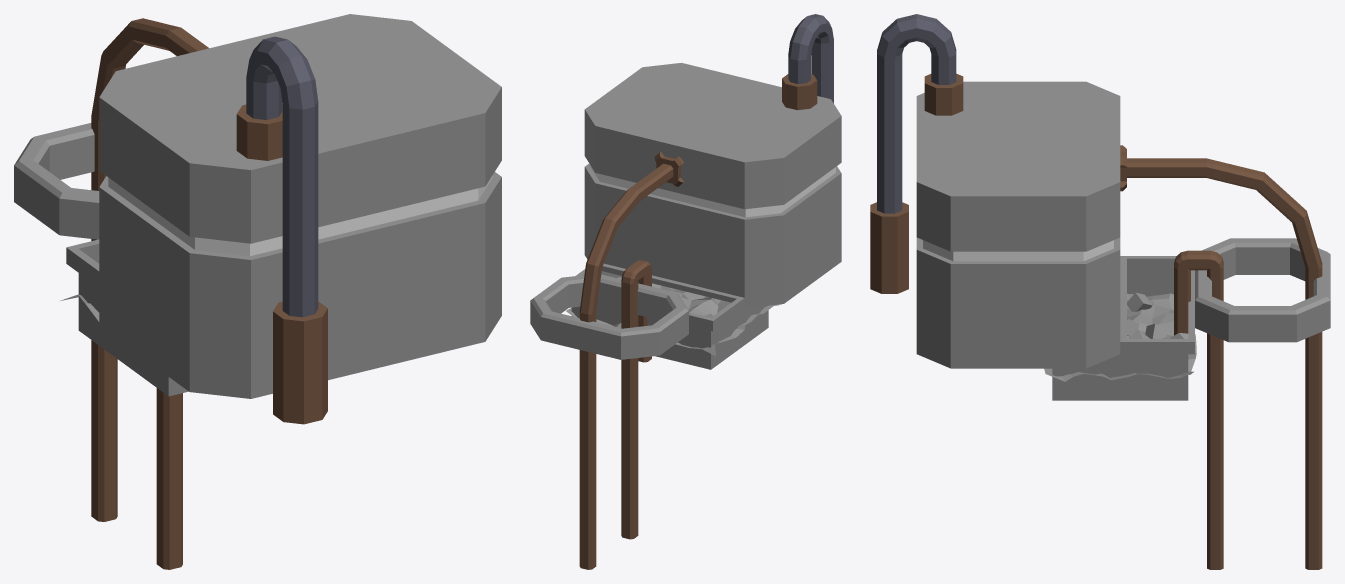
Rendered from madenlv1.fbx.
3 renders of one model, left to right at view 1: azimuth 30°, elevation 25°; view 2: azimuth 150°, elevation 25°; view 3: azimuth 270°, elevation 25°, orthographic. The views are drawn at different scales.
Parts seen in each view (by area): view 1: Cube.010; view 2: Cube.010; view 3: Cube.010.
Boxes of the visible parts, x1,y1,x2,y2 form: Cube.010: [14, 14, 501, 569]; Cube.010: [530, 14, 841, 569]; Cube.010: [870, 14, 1330, 569].
Size of the model in its own units: 400 by 843 by 678.
